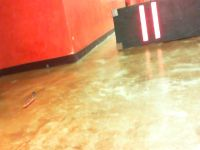switch: (150, 2, 162, 39), (138, 5, 149, 42)
